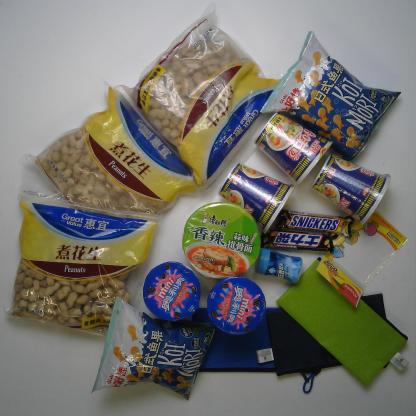Chocolate: (271, 206, 355, 239), (260, 228, 340, 254)
Dessert: (140, 260, 204, 325), (206, 275, 269, 337)
Dried Food: (111, 6, 302, 192), (26, 78, 207, 242), (2, 184, 168, 344)
Gum: (249, 242, 304, 288)
Instant Noodles: (308, 150, 395, 228), (180, 200, 264, 280), (252, 108, 336, 184), (216, 162, 297, 236)
Puffed Food: (257, 26, 405, 166), (90, 293, 224, 404)
Stationery: (274, 255, 412, 391), (264, 289, 394, 392), (315, 207, 410, 308), (164, 302, 288, 374)
